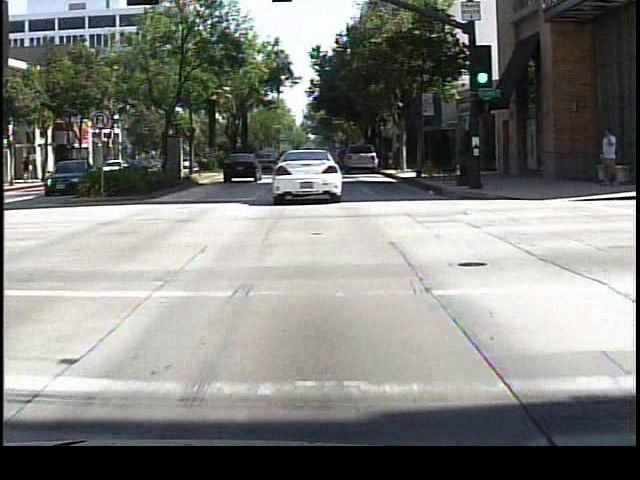person: (595, 124, 619, 193), (20, 152, 37, 186)
